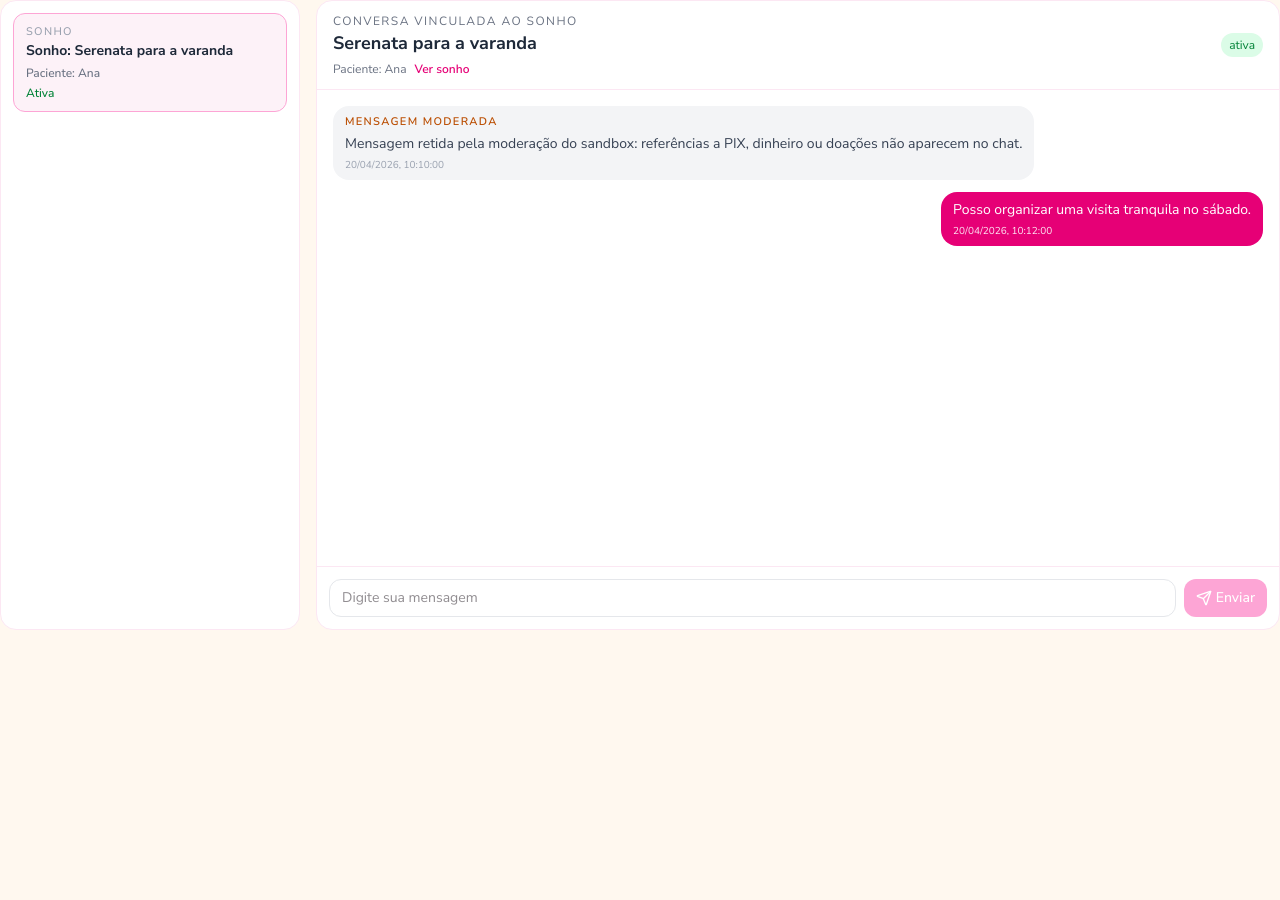
Test: ConversationChat › shows the API moderation error if the backend still rejects the message
Expected: the heading "Serenata para a varanda" is shown, x1=333 y1=31 x2=537 y2=55
In the field with placeholder "Digite sua mensagem": (752,598) x1=329 y1=579 x2=1176 y2=617, type "Tudo bem, vou oferecer companhia e presença."
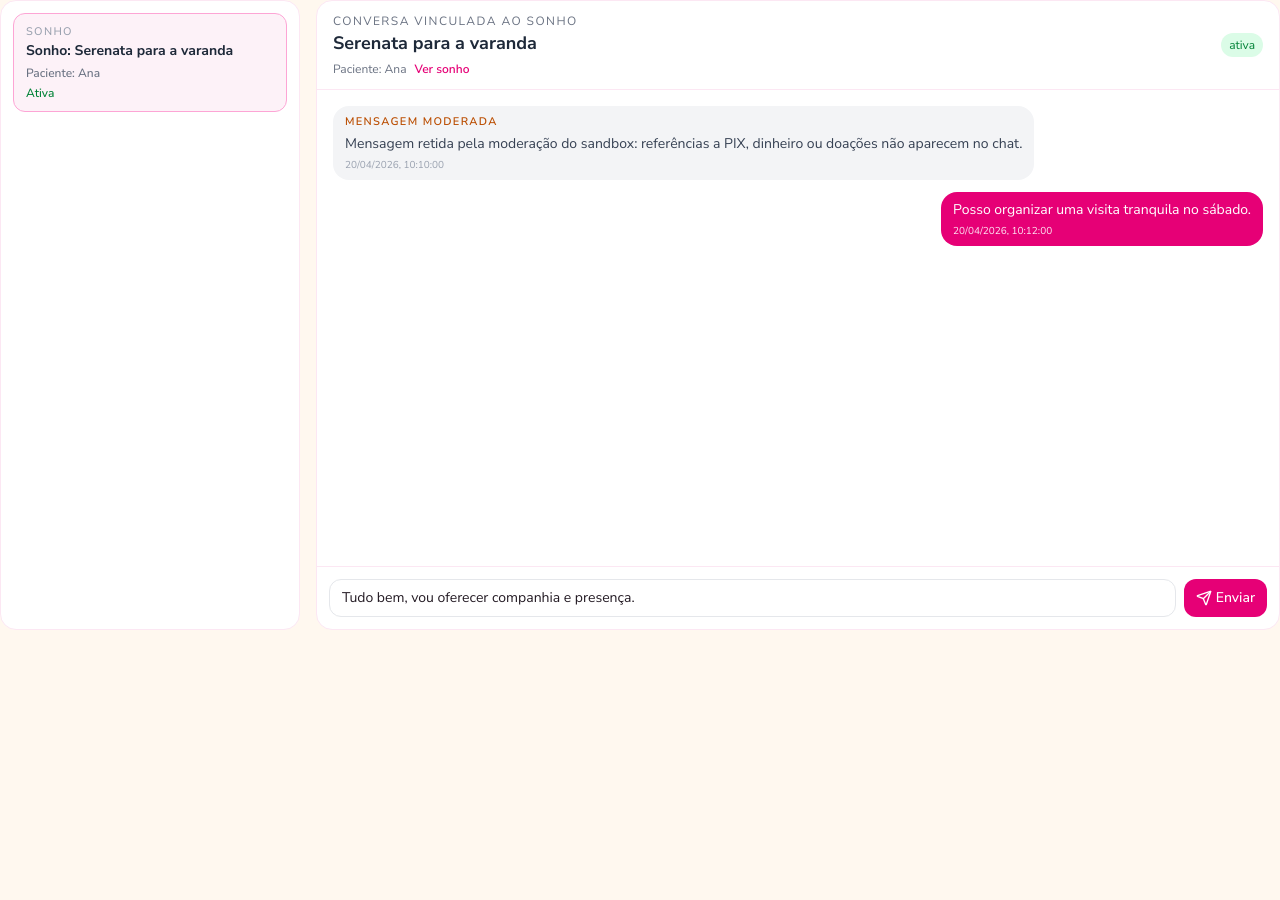
Click the button "Enviar": (1225,598) x1=1184 y1=579 x2=1267 y2=617
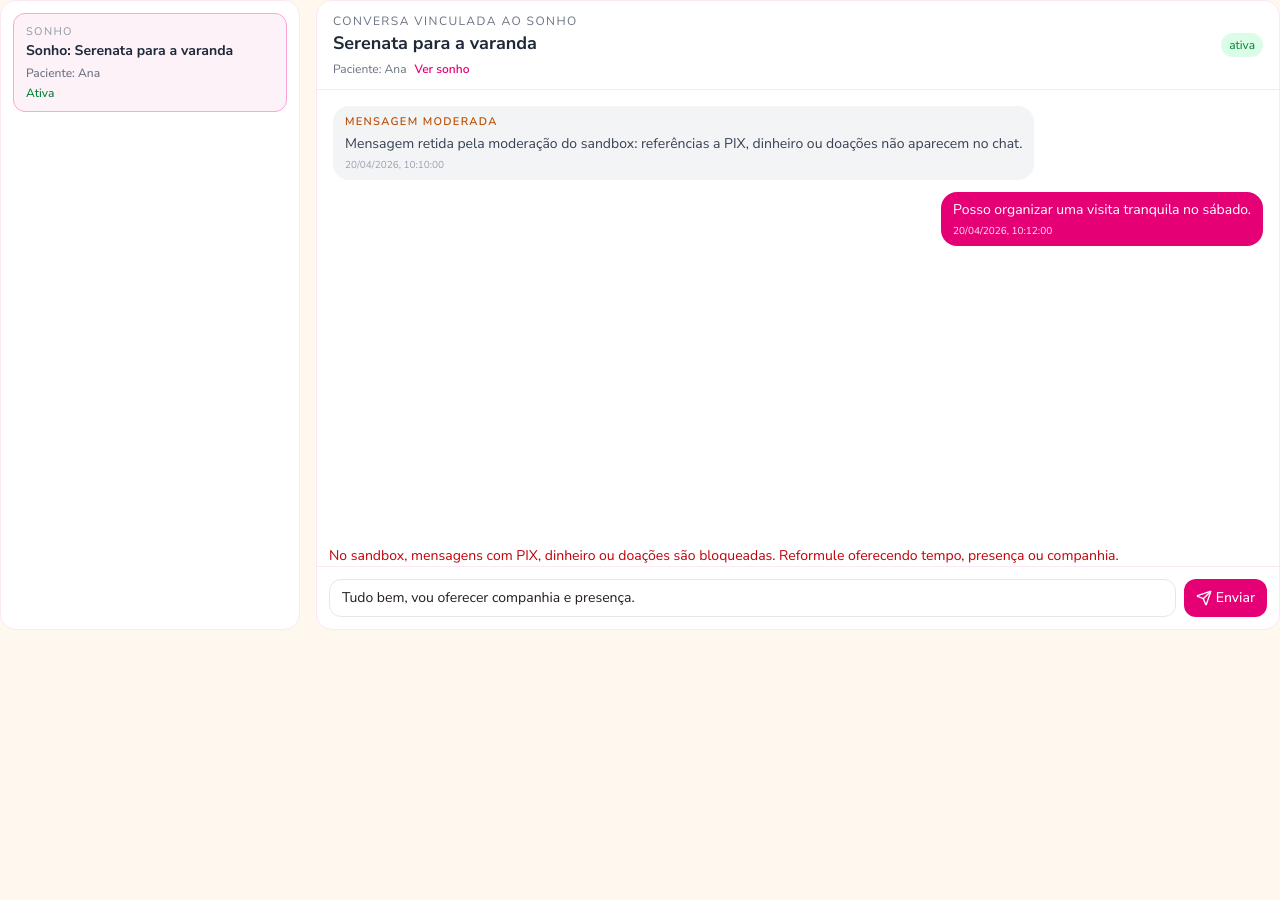
Result: the text "reformule oferecendo tempo, presença ou companhia" is shown at x1=329 y1=546 x2=1119 y2=565
